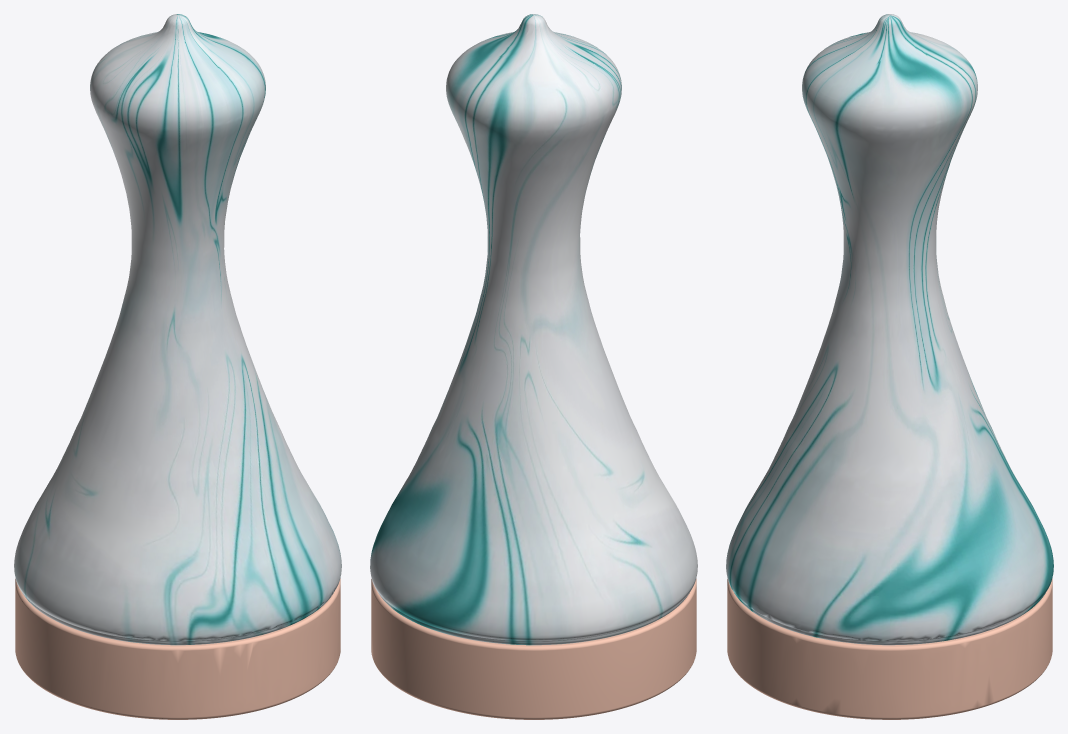
File: queen-white-hd.glb
3 renders of one model, left to right at view 1: azimuth 30°, elevation 25°; view 2: azimuth 150°, elevation 25°; view 3: azimuth 270°, elevation 25°, orthographic.
Parts seen in each view (by area): view 1: dama_bila; view 2: dama_bila; view 3: dama_bila.
Boxes of the visible parts, x1,y1,x2,y2 form: dama_bila: (14, 14, 341, 719); dama_bila: (370, 14, 697, 719); dama_bila: (726, 14, 1053, 719).
Bounding box in the file's own units: 0.6757 × 1.45 × 0.6757.
Materials: 2 (1 with a texture image).
